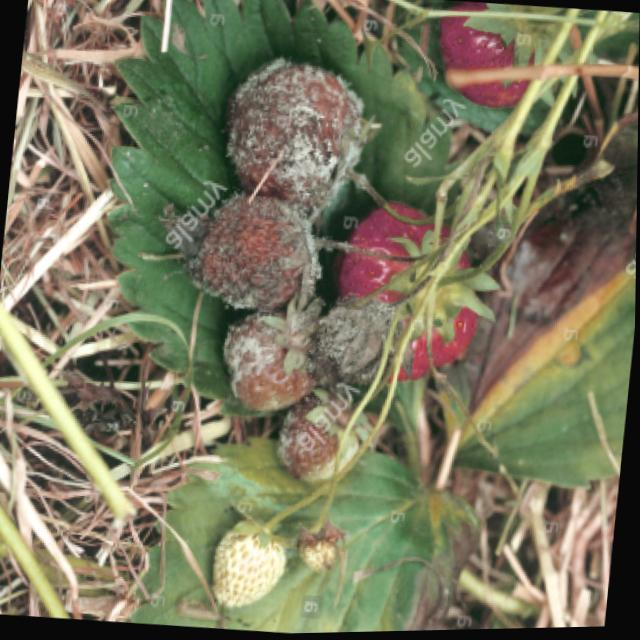Gray Mold: (224, 56, 366, 229), (188, 191, 319, 312), (221, 296, 325, 412), (309, 296, 393, 393), (276, 391, 362, 483)
